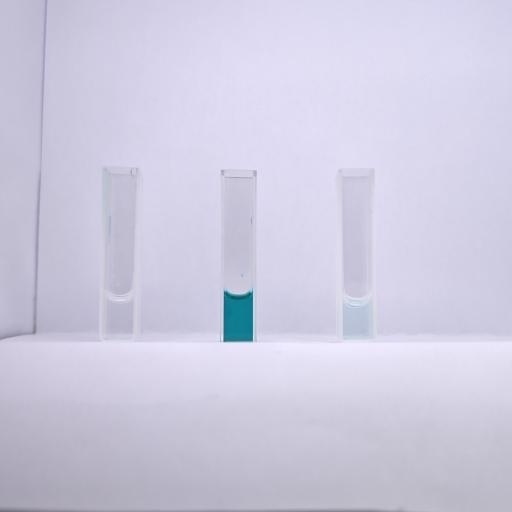cuvette: (97, 163, 142, 343), (336, 166, 378, 348), (217, 168, 259, 346)
liquid: (224, 288, 253, 341), (106, 292, 134, 338), (343, 296, 371, 340)
